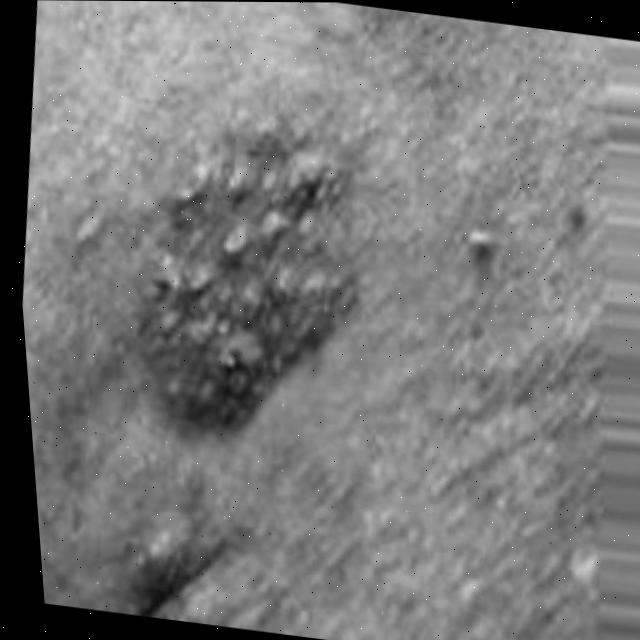Shingles: (111, 128, 370, 451)
